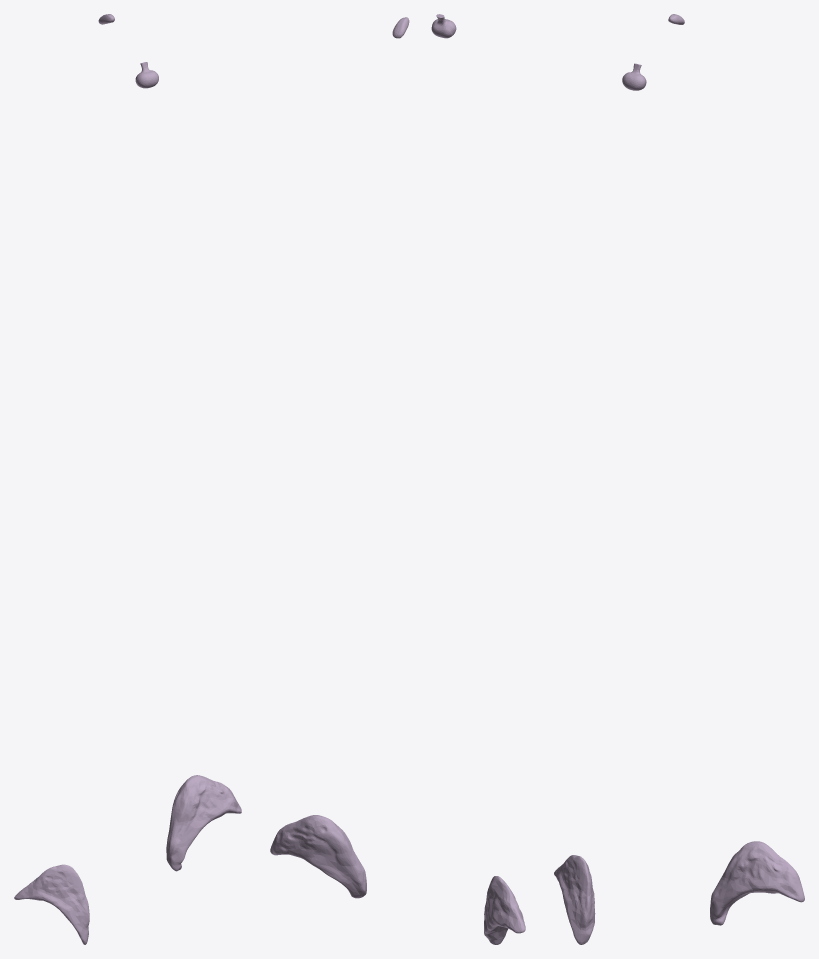
File: endocrine-00.glb
3 views of the same model, side by side, from view 1: azimuth 30°, elevation 25°; view 2: azimuth 150°, elevation 25°; view 3: azimuth 330°, elevation 25° (orthographic). The views are drawn at different scales.
Visible parts, largest first — view 1: FJ3129, FJ3130; view 2: FJ3129, FJ3130; view 3: FJ3129, FJ3130.
Part boxes in pixels (x1,y1,x2,y2): FJ3129: (166, 775, 241, 871); FJ3130: (14, 864, 89, 944); FJ3129: (270, 815, 366, 898); FJ3130: (484, 876, 525, 944); FJ3129: (710, 841, 804, 925); FJ3130: (554, 855, 595, 944).
Size of the model in its own units: 0.138 by 0.5024 by 0.0514.
